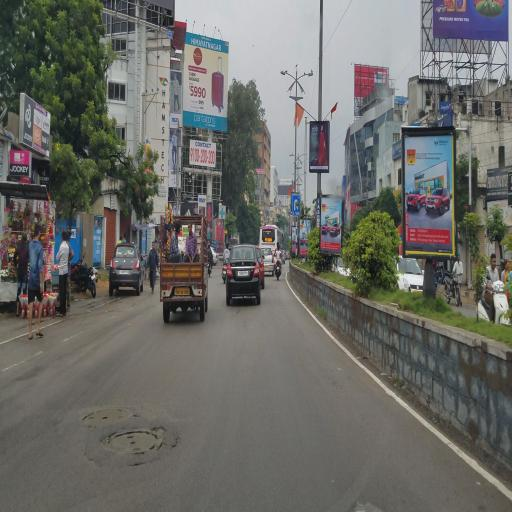street_light_0: (276, 59, 296, 90), (295, 60, 313, 94)
